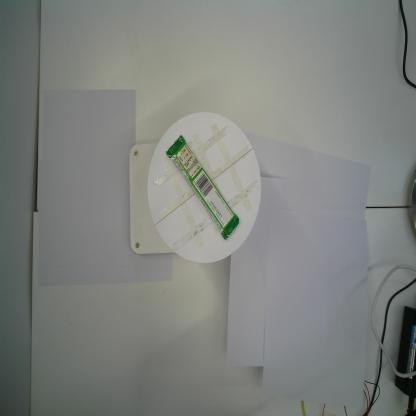Chocolate: (166, 133, 240, 241)
